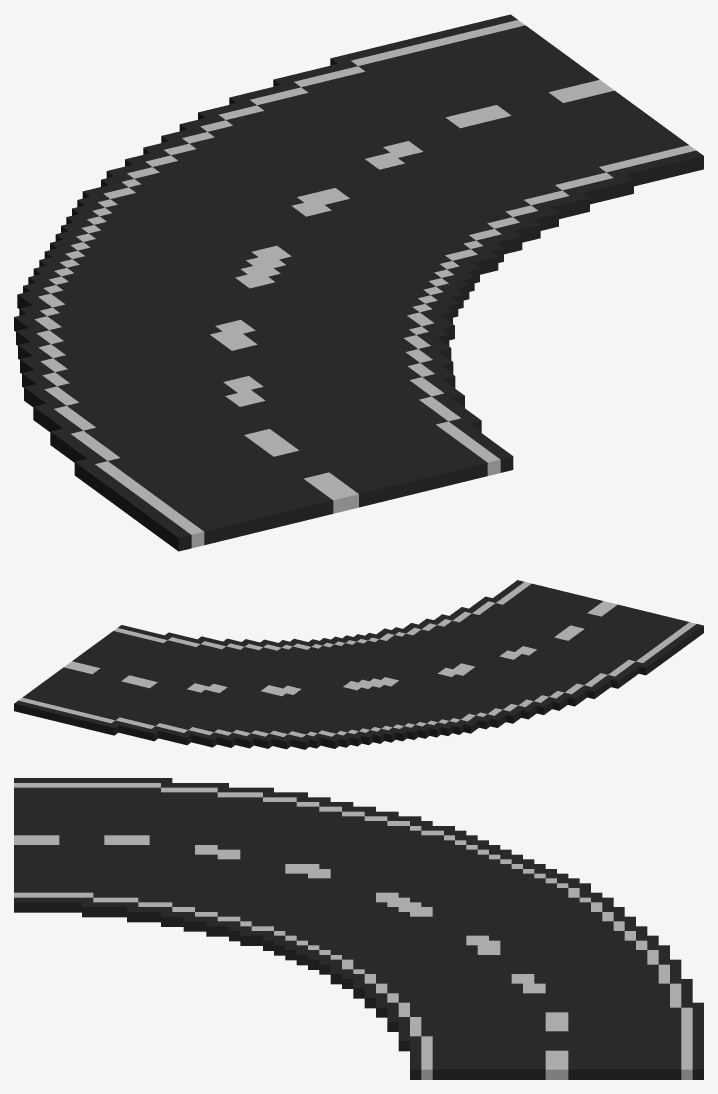
File: road-rounded-curve-large-1.gltf
3 views of the same model, one above another, from view 1: azimuth 30°, elevation 25°; view 2: azimuth 150°, elevation 25°; view 3: azimuth 270°, elevation 25° (orthographic). The views are drawn at different scales.
Parts seen in each view (by area): view 1: road-rounded-curve-large-1_model; view 2: road-rounded-curve-large-1_model; view 3: road-rounded-curve-large-1_model.
Boxes of the visible parts, x1,y1,x2,y2 form: road-rounded-curve-large-1_model: (14,14,703,551); road-rounded-curve-large-1_model: (14,580,703,749); road-rounded-curve-large-1_model: (14,778,703,1079).
Bounding box in the file's own units: 6.1 × 0.1 × 6.1.
1 material, 1 textured.
